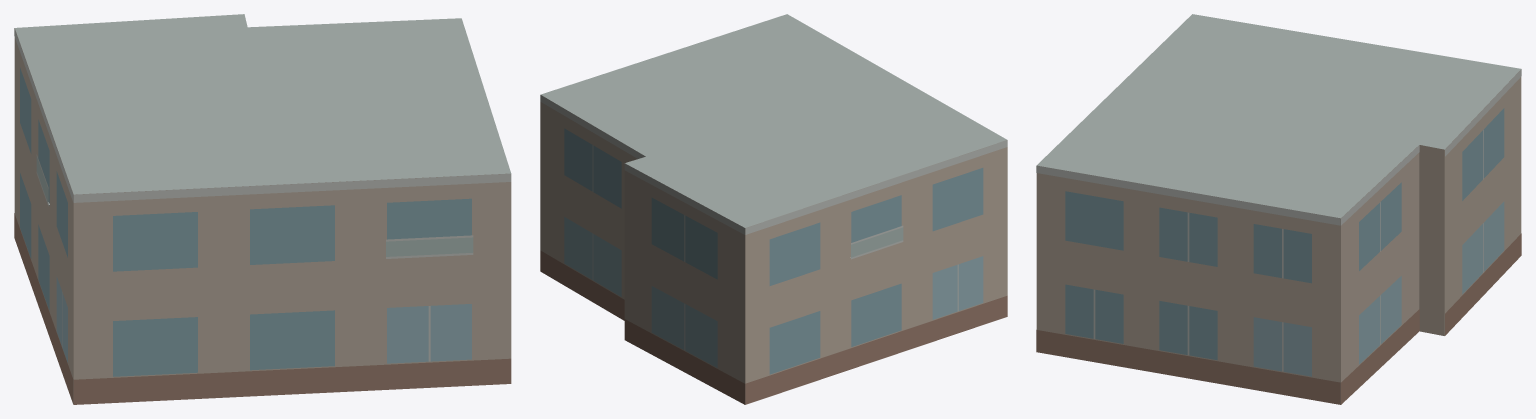
File: survey-upis-32975039.glb
The picture shows the model from 3 angles, left to right: view 1: azimuth 30°, elevation 25°; view 2: azimuth 150°, elevation 25°; view 3: azimuth 270°, elevation 25°; orthographic projection. The views are drawn at different scales.
Parts seen in each view (by area): view 1: survey-upis-32975039.tmp; view 2: survey-upis-32975039.tmp; view 3: survey-upis-32975039.tmp.
Part boxes in pixels (x1,y1,x2,y2): survey-upis-32975039.tmp: (14, 14, 511, 404); survey-upis-32975039.tmp: (540, 14, 1007, 404); survey-upis-32975039.tmp: (1036, 14, 1521, 404).
Bounding box in the file's own units: 14.33 × 6.1 × 14.38.
